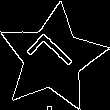L_SE: (24, 29, 81, 87)
